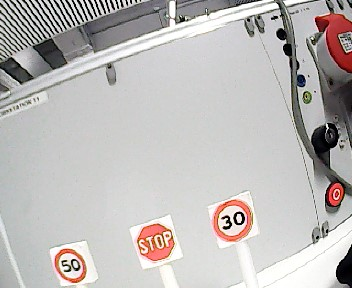30-bord: (212, 197, 256, 243)
50-bord: (55, 248, 88, 285)
stop-bord: (135, 220, 177, 266)
